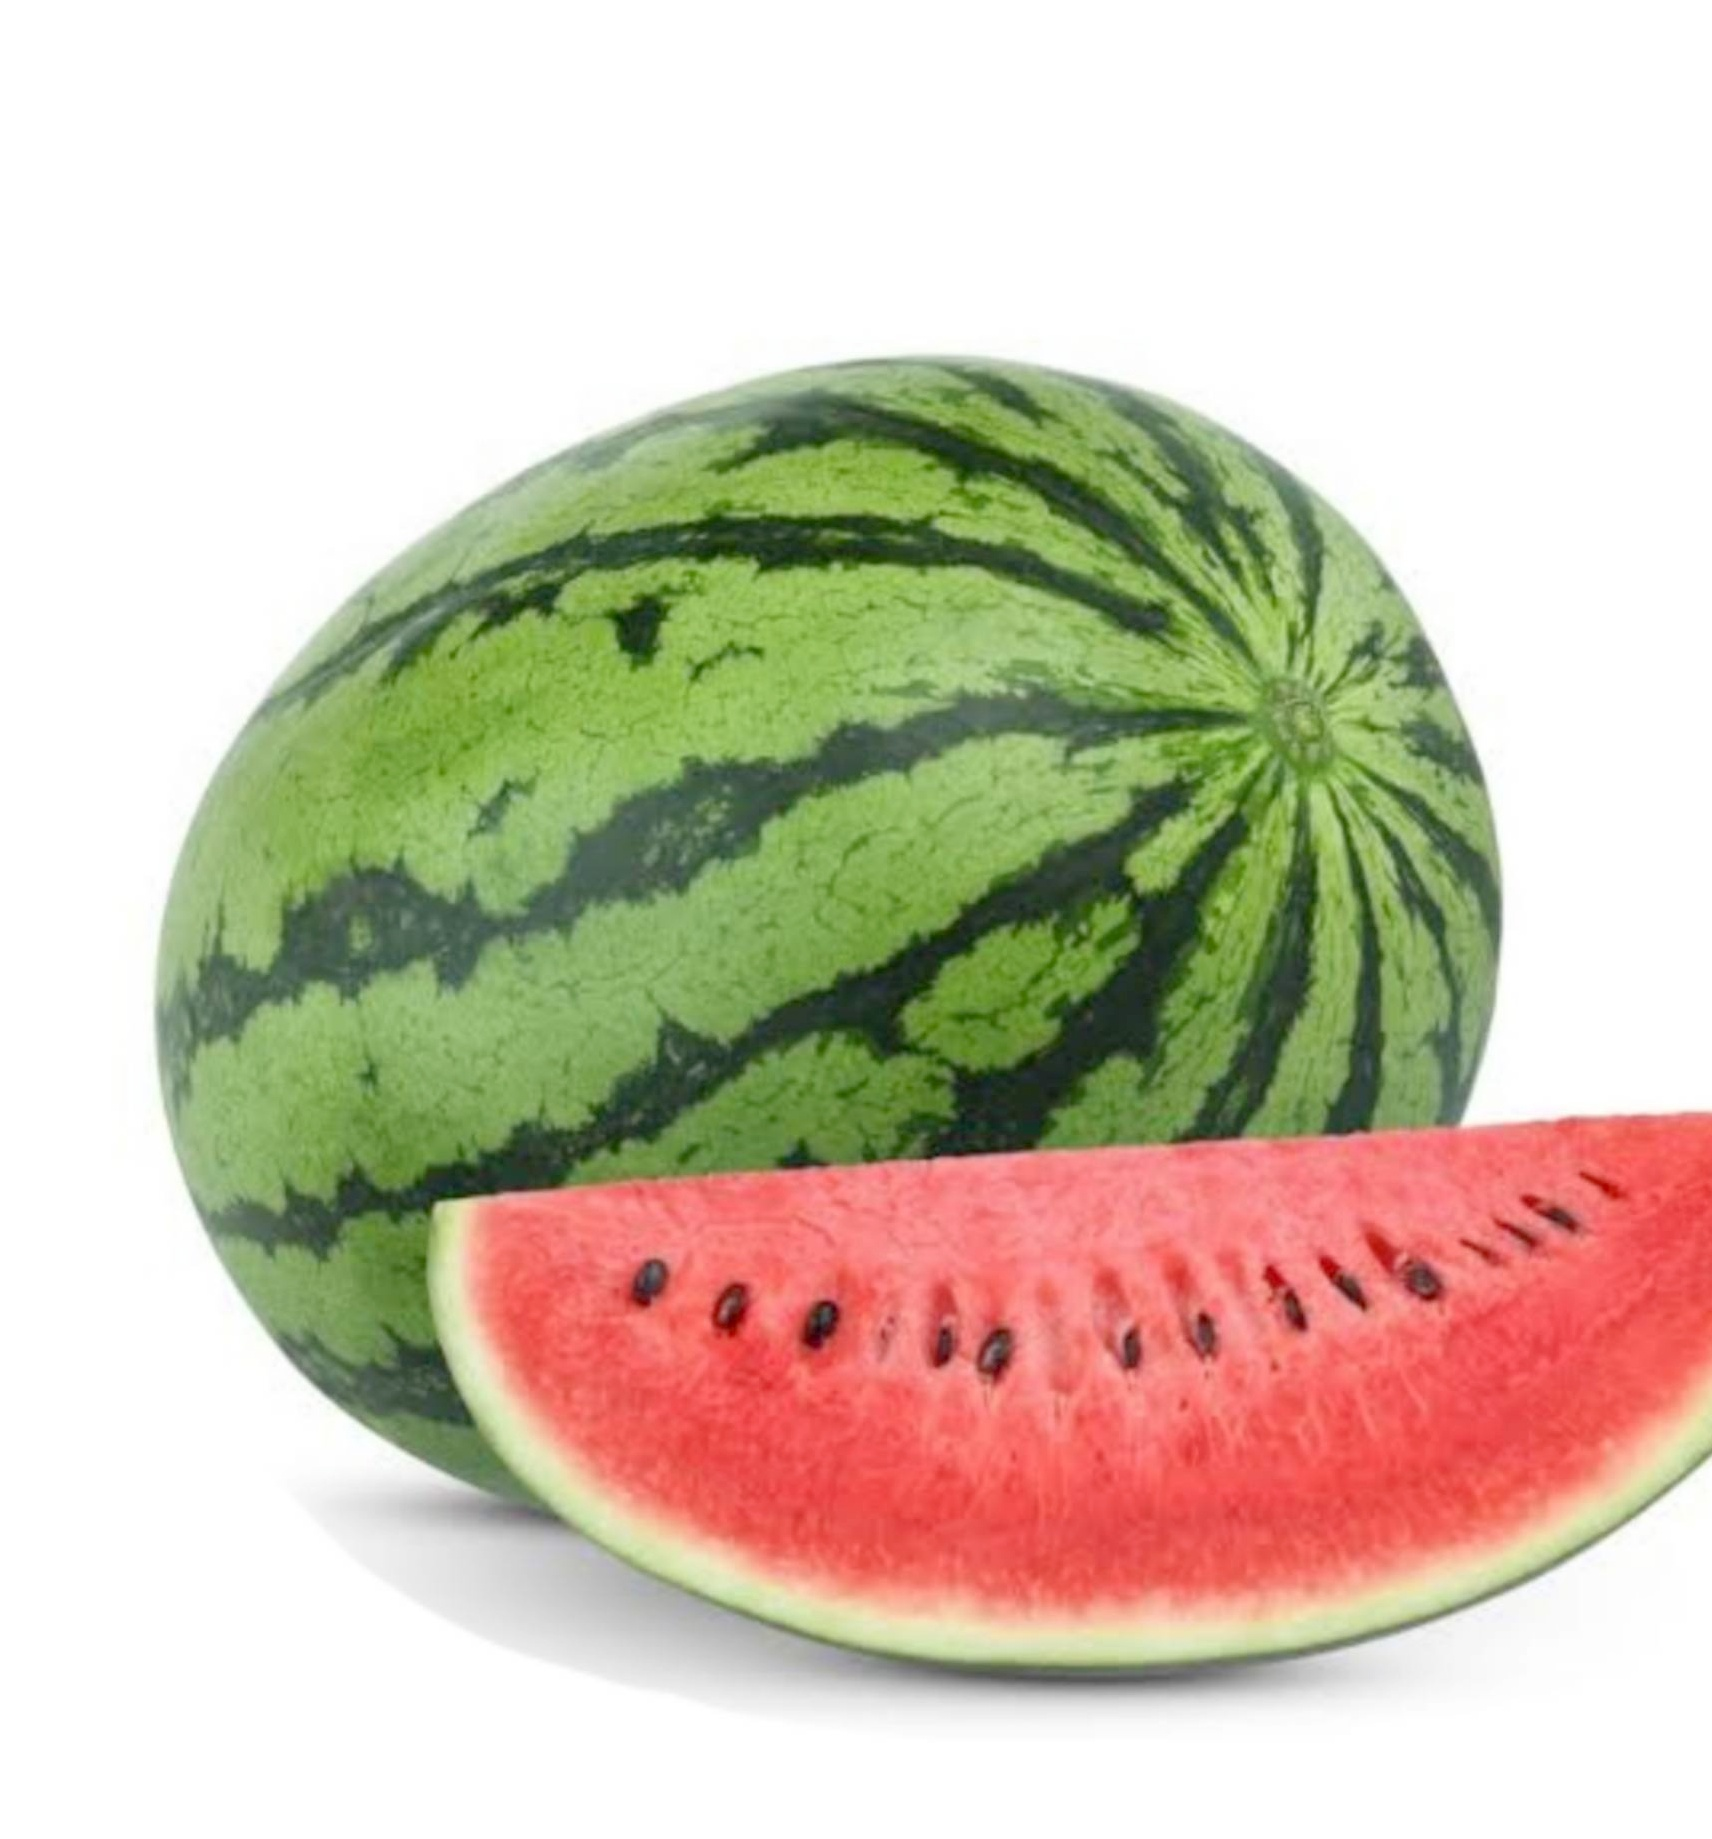watermelon: (106, 357, 1599, 1548)
